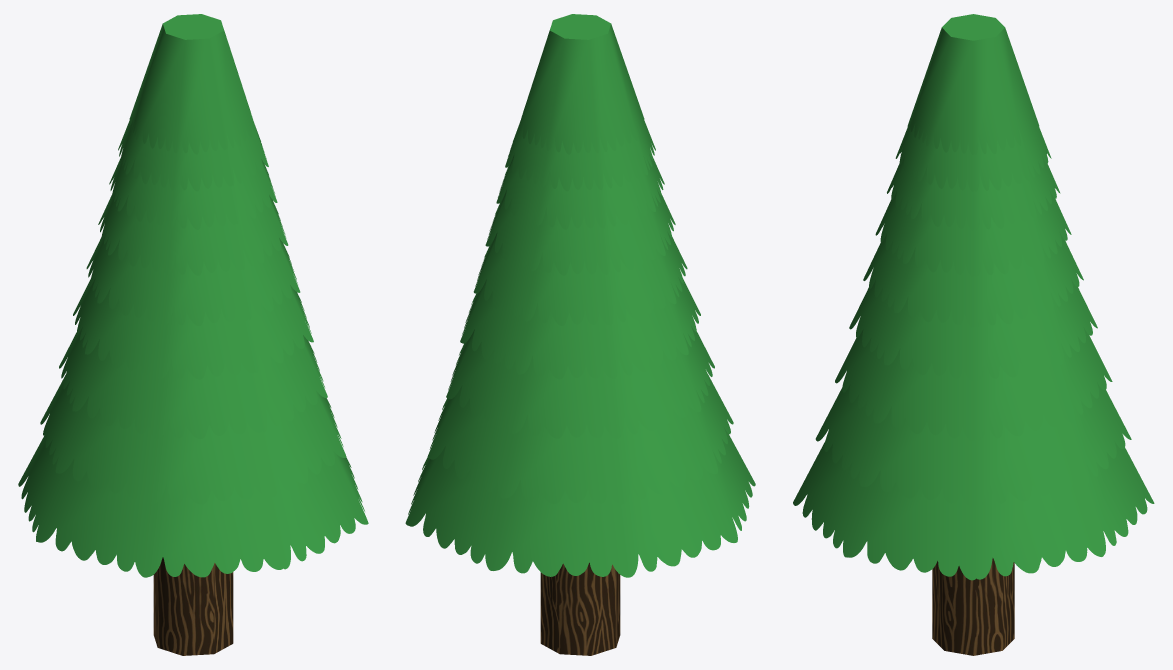
File: PineTree.FBX
The picture shows the model from 3 angles, left to right: view 1: azimuth 30°, elevation 25°; view 2: azimuth 150°, elevation 25°; view 3: azimuth 270°, elevation 25°; orthographic projection.
Visible parts, largest first — view 1: Cylinder003, Cylinder004, Cylinder005, Cylinder006, Cylinder011, Cylinder007, Cylinder008, Cylinder009, Cylinder001, Cylinder010; view 2: Cylinder003, Cylinder004, Cylinder005, Cylinder006, Cylinder011, Cylinder007, Cylinder008, Cylinder009, Cylinder001, Cylinder010; view 3: Cylinder003, Cylinder004, Cylinder005, Cylinder006, Cylinder011, Cylinder007, Cylinder008, Cylinder009, Cylinder001, Cylinder010.
Boxes of the visible parts, box(x1,y1,x2,y2) form: Cylinder003: box(18, 429, 368, 577); Cylinder004: box(40, 375, 346, 504); Cylinder005: box(59, 327, 327, 438); Cylinder006: box(73, 277, 313, 379); Cylinder011: box(129, 14, 257, 154); Cylinder007: box(86, 232, 300, 326); Cylinder008: box(98, 190, 288, 275); Cylinder009: box(109, 155, 277, 229); Cylinder001: box(153, 557, 233, 655); Cylinder010: box(118, 108, 268, 191); Cylinder003: box(405, 427, 755, 577); Cylinder004: box(427, 374, 733, 504); Cylinder005: box(446, 326, 714, 438); Cylinder006: box(460, 277, 700, 379); Cylinder011: box(516, 14, 644, 154); Cylinder007: box(473, 231, 687, 325); Cylinder008: box(485, 188, 675, 275); Cylinder009: box(496, 153, 664, 229); Cylinder001: box(540, 562, 620, 655); Cylinder010: box(505, 113, 655, 191); Cylinder003: box(793, 441, 1154, 580); Cylinder004: box(815, 382, 1131, 506); Cylinder005: box(835, 327, 1112, 440); Cylinder006: box(849, 279, 1097, 381); Cylinder011: box(907, 14, 1039, 154); Cylinder007: box(863, 232, 1083, 327); Cylinder008: box(875, 190, 1071, 276); Cylinder009: box(887, 154, 1060, 230); Cylinder001: box(932, 558, 1014, 655); Cylinder010: box(895, 113, 1051, 191).
Size of the model in its own units: 176 by 321 by 176.
Materials: 2 (2 with a texture image).
